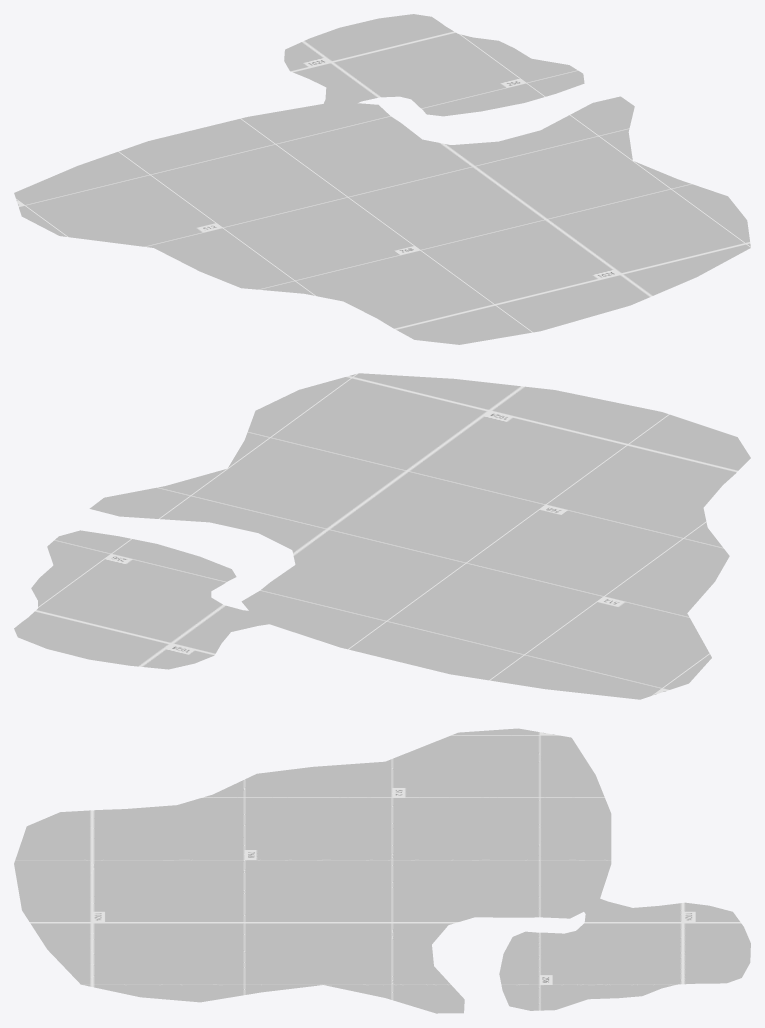
File: SM_Wet.FBX
The picture shows the model from 3 angles, top to bottom: view 1: azimuth 30°, elevation 25°; view 2: azimuth 150°, elevation 25°; view 3: azimuth 270°, elevation 25°; orthographic projection. The views are drawn at different scales.
Visible parts, largest first — view 1: SM_Wet; view 2: SM_Wet; view 3: SM_Wet.
Part boxes in pixels (x1,y1,x2,y2): SM_Wet: [14, 14, 750, 344]; SM_Wet: [14, 373, 750, 699]; SM_Wet: [14, 728, 750, 1013].
Bounding box in the file's own units: 85.64 × 2.64e-14 × 93.58.
